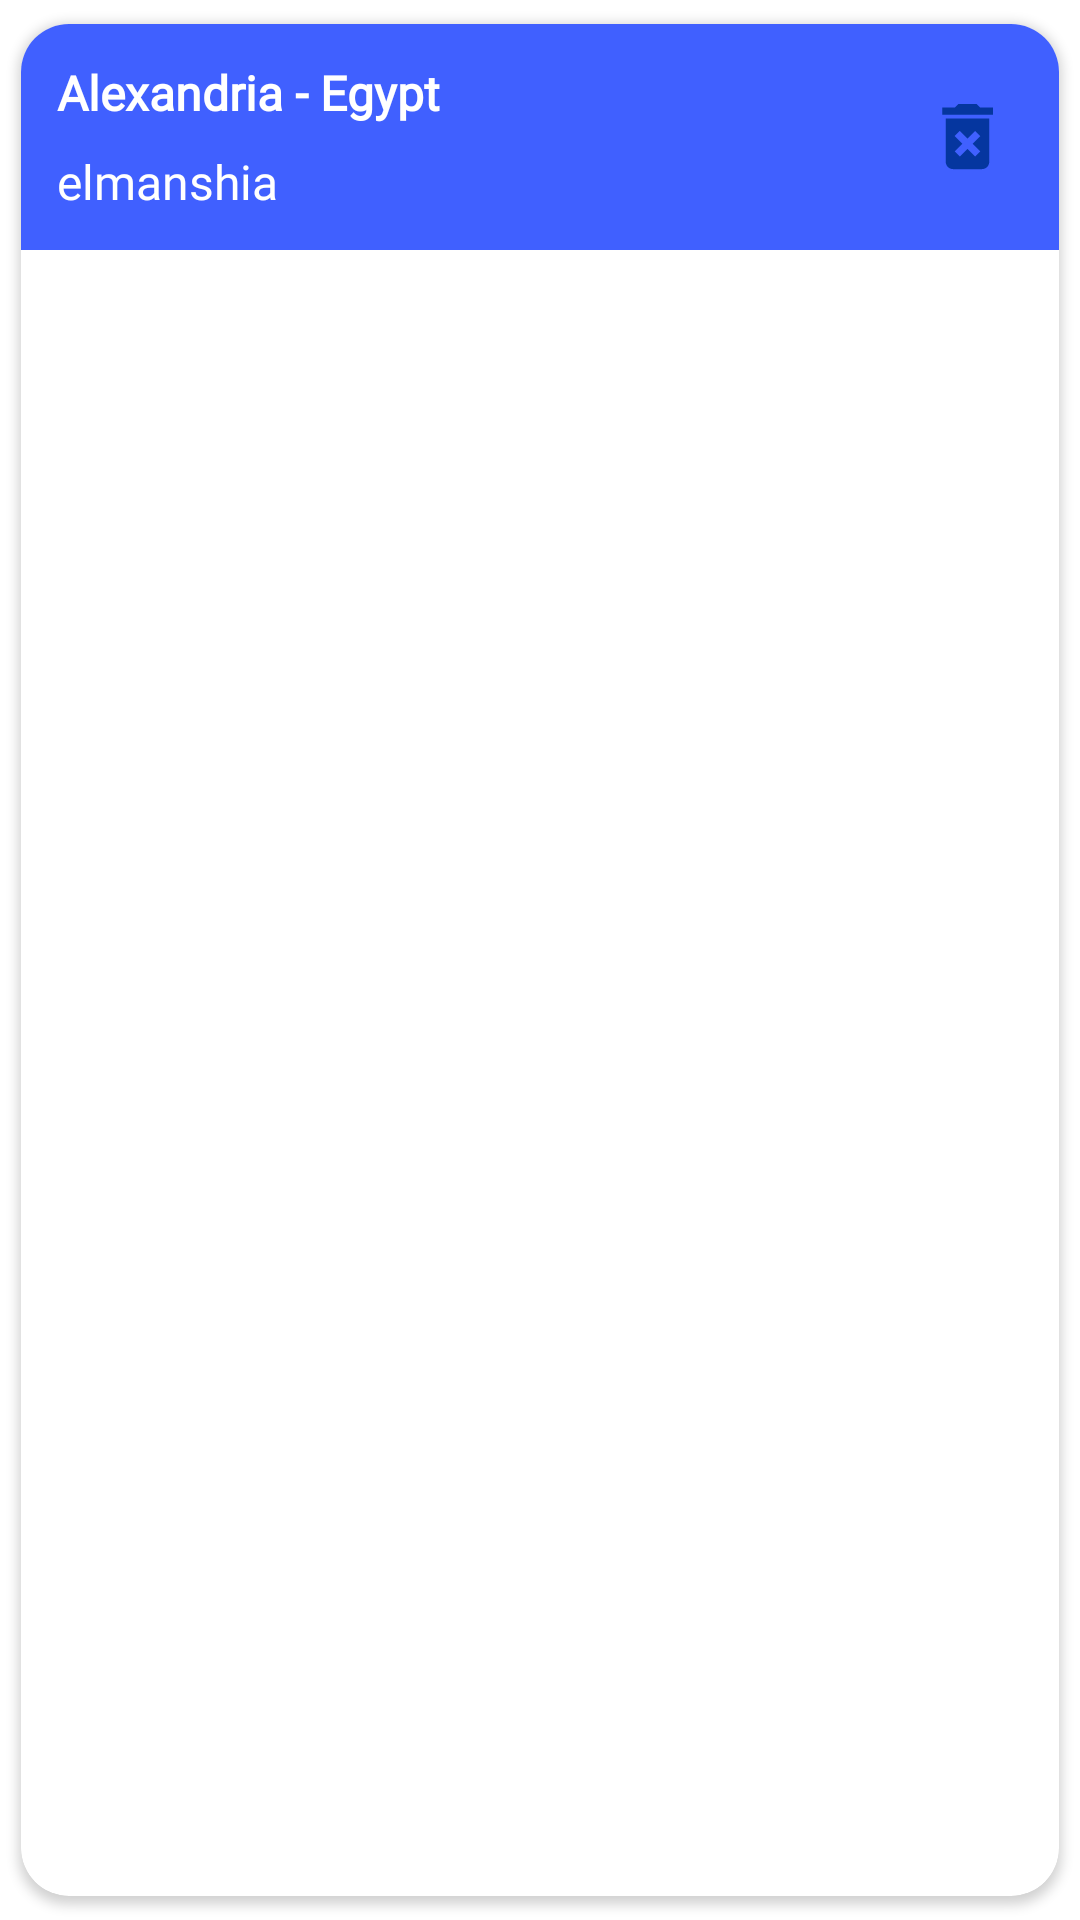

Where icons sit on this 1080x1920 app screen, as region(x1, y1, x2, y2):
delete forever: region(942, 104, 993, 169)
